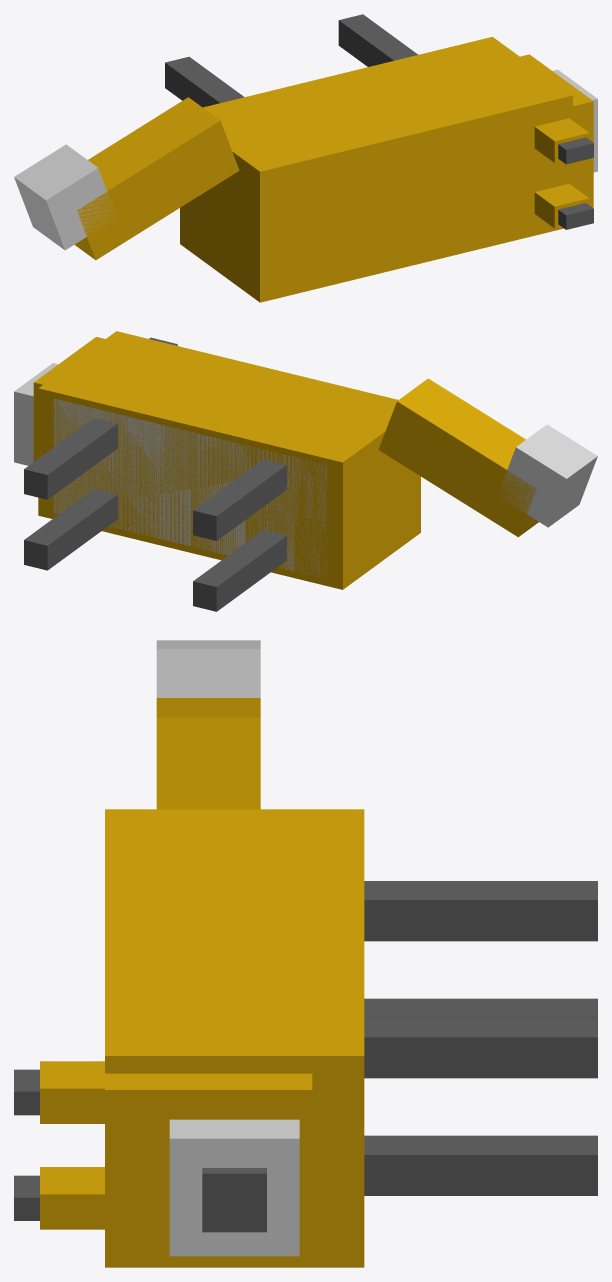
The model's file is fox_stand.glb.
3 renders of one model, top to bottom at view 1: azimuth 30°, elevation 25°; view 2: azimuth 150°, elevation 25°; view 3: azimuth 270°, elevation 25°, orthographic. The views are drawn at different scales.
Parts seen in each view (by area): view 1: world; view 2: world; view 3: world.
Boxes of the visible parts, bbox=[...] form: world: bbox=[14, 14, 597, 302]; world: bbox=[14, 331, 597, 611]; world: bbox=[14, 640, 597, 1267].
Size of the model in its own units: 0.8098 by 0.2422 by 0.45.
